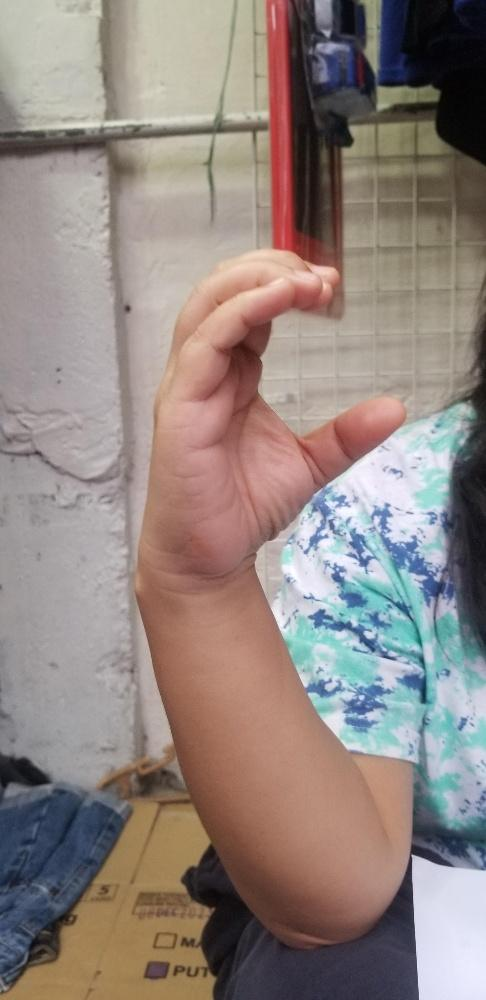c: (135, 245, 406, 571)
